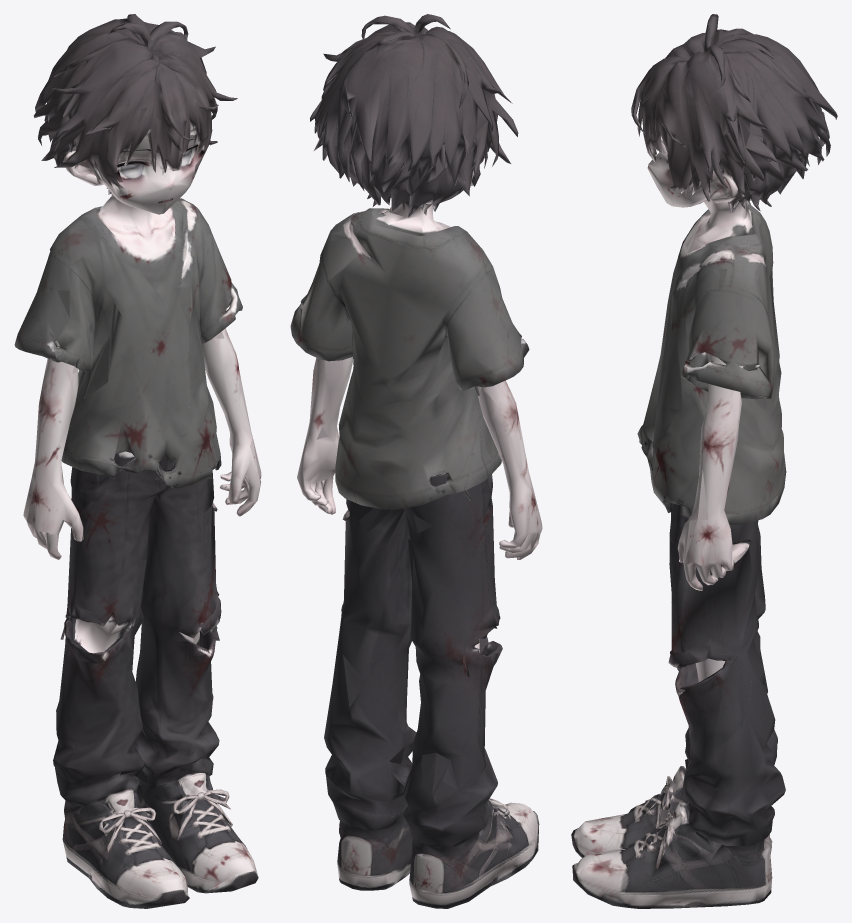
Rendered from ENM_001_infected_basic_a.glb.
The picture shows the model from 3 angles, left to right: view 1: azimuth 30°, elevation 25°; view 2: azimuth 150°, elevation 25°; view 3: azimuth 270°, elevation 25°; orthographic projection. The views are drawn at different scales.
Visible parts, largest first — view 1: Mesh_0; view 2: Mesh_0; view 3: Mesh_0.
Boxes of the visible parts, left/top/right/bottom form: Mesh_0: left=14, top=14, right=261, bottom=908; Mesh_0: left=290, top=14, right=542, bottom=908; Mesh_0: left=571, top=14, right=837, bottom=908.
Bounding box in the file's own units: 0.4704 × 1.65 × 0.4676.
Materials: 1 (1 with a texture image).
